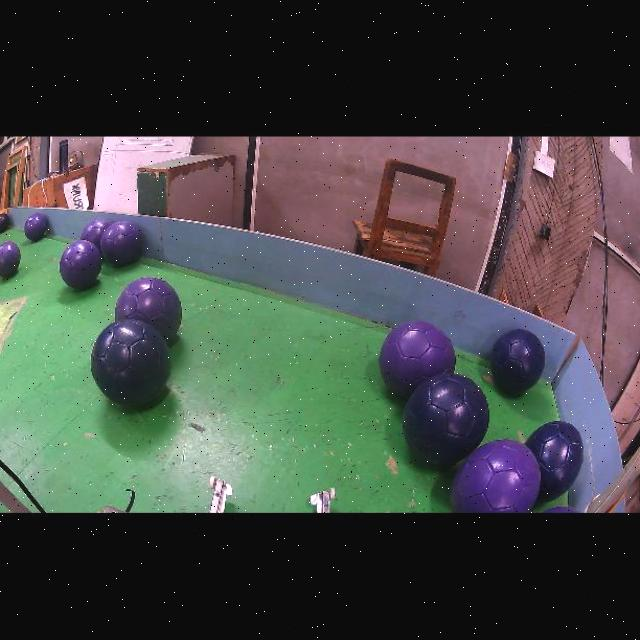B: (403, 372, 489, 464), (90, 318, 170, 405), (526, 420, 583, 501), (490, 328, 545, 393), (0, 213, 11, 232)
P: (450, 439, 540, 512), (379, 320, 455, 397), (114, 277, 182, 341), (81, 218, 141, 265), (59, 239, 102, 288), (81, 218, 111, 250), (0, 240, 20, 277), (24, 211, 47, 240)
